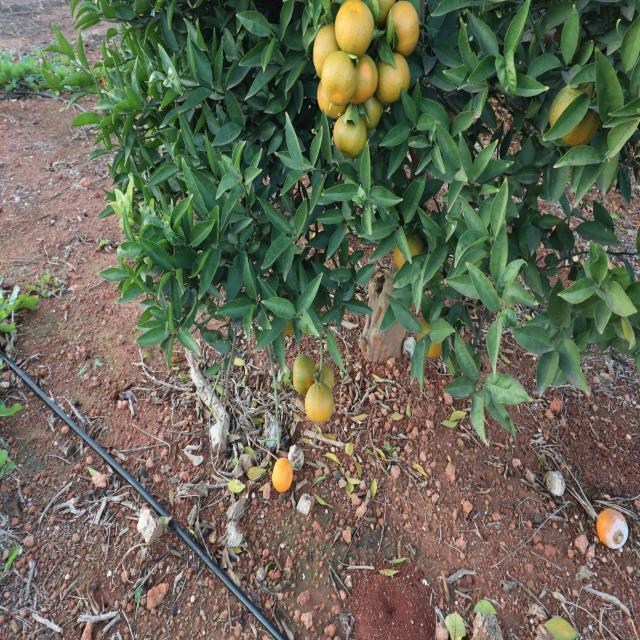Jeruk Belum Matang: (549, 86, 599, 148), (334, 121, 368, 157), (306, 386, 336, 423), (294, 356, 316, 392), (361, 101, 384, 129), (323, 361, 341, 389), (406, 233, 426, 258)
Jeruk Sudah Matang: (338, 0, 377, 53), (319, 65, 353, 116), (388, 4, 419, 56), (321, 47, 358, 87), (382, 56, 412, 104), (312, 27, 342, 72), (357, 56, 380, 94), (272, 457, 295, 491), (596, 506, 618, 541), (388, 246, 407, 270), (425, 342, 444, 363)
